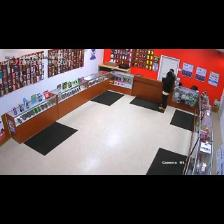person: (159, 72, 175, 110)
